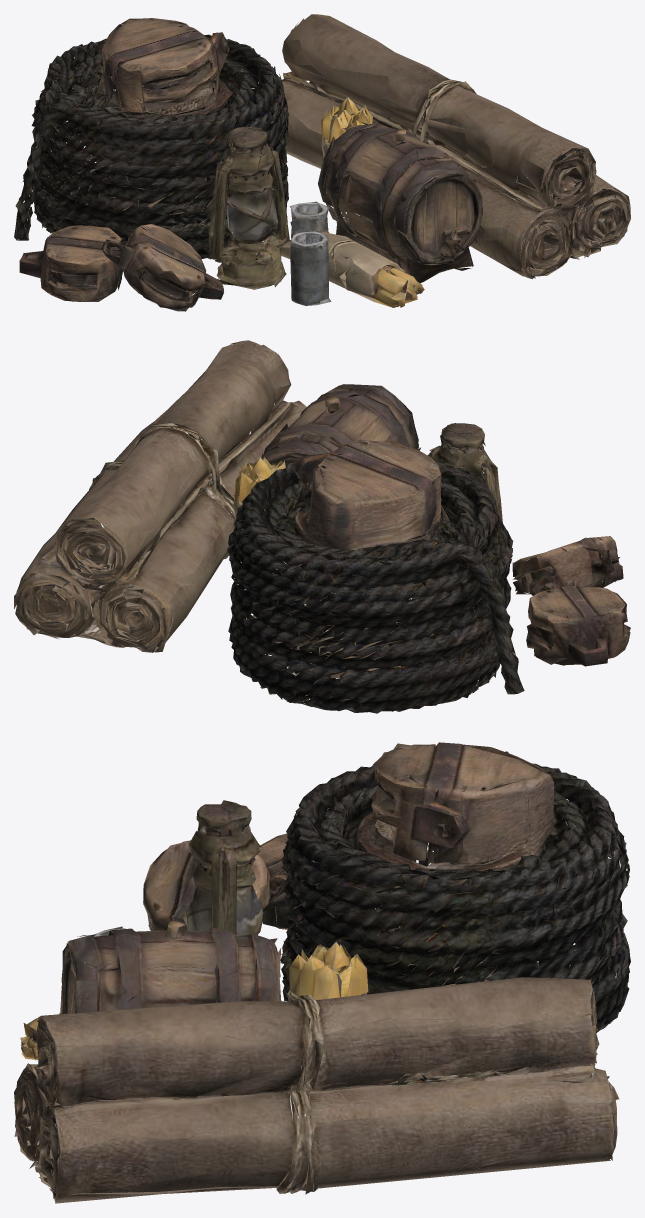
Rendered from chandlery-stock-cluster.glb.
3 renders of one model, top to bottom at view 1: azimuth 30°, elevation 25°; view 2: azimuth 150°, elevation 25°; view 3: azimuth 270°, elevation 25°, orthographic. The views are drawn at different scales.
Visible parts, largest first — view 1: Mesh_0; view 2: Mesh_0; view 3: Mesh_0.
Boxes of the visible parts, <box> form: Mesh_0: <box>14,14,630,311</box>; Mesh_0: <box>14,340,630,713</box>; Mesh_0: <box>14,742,630,1203</box>.
Size of the model in its own units: 1.9 by 0.6533 by 1.49.
1 material, 1 textured.
